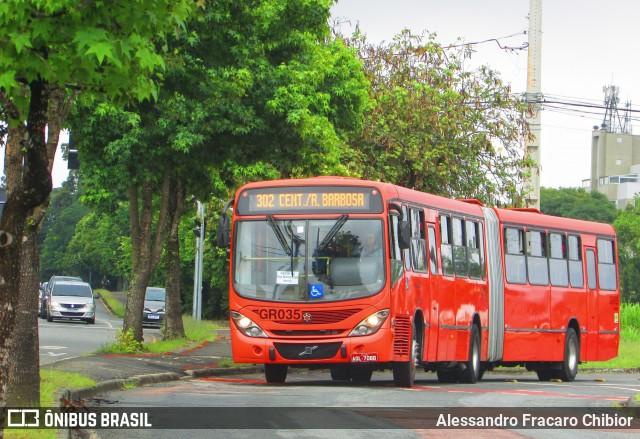CENT R BARBOSA: (276, 191, 367, 211)
